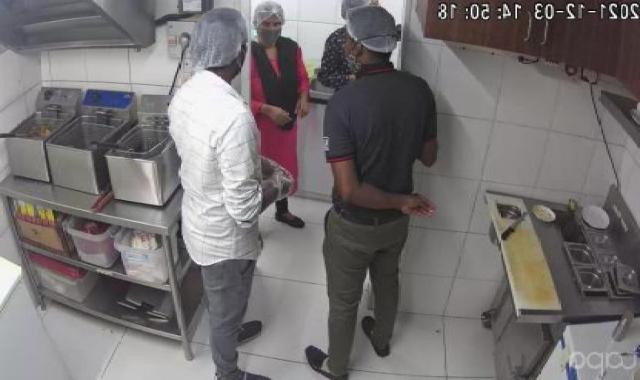hairnet: (192, 5, 252, 79), (348, 7, 400, 62), (247, 1, 294, 41), (330, 0, 382, 21)
